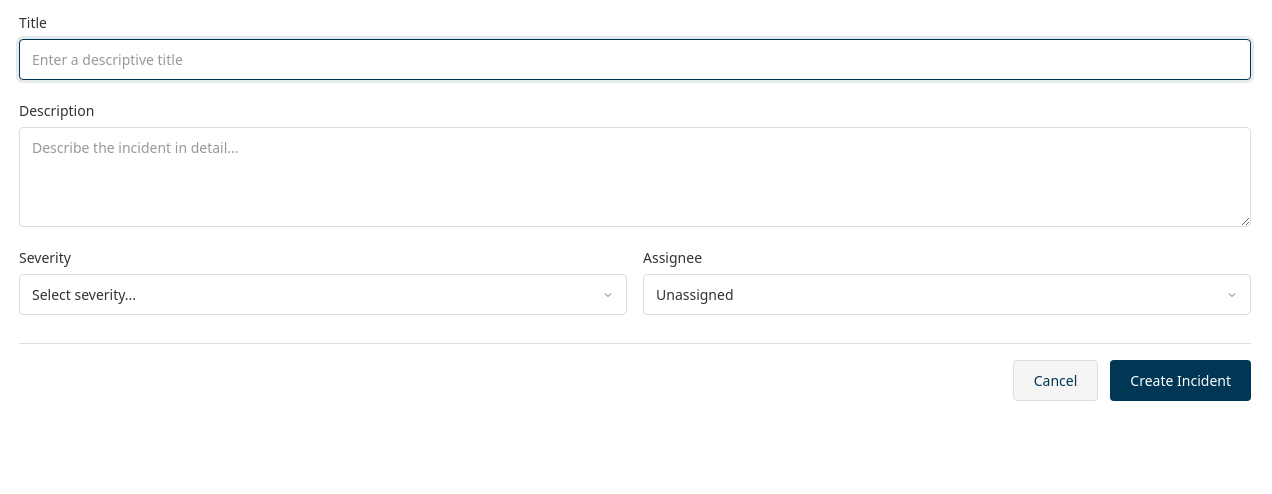
Test: IncidentForm › Validation › shows error when title is empty
Step 1. Click the button "Create Incident" → [1181, 380], box [1110,360,1251,401]
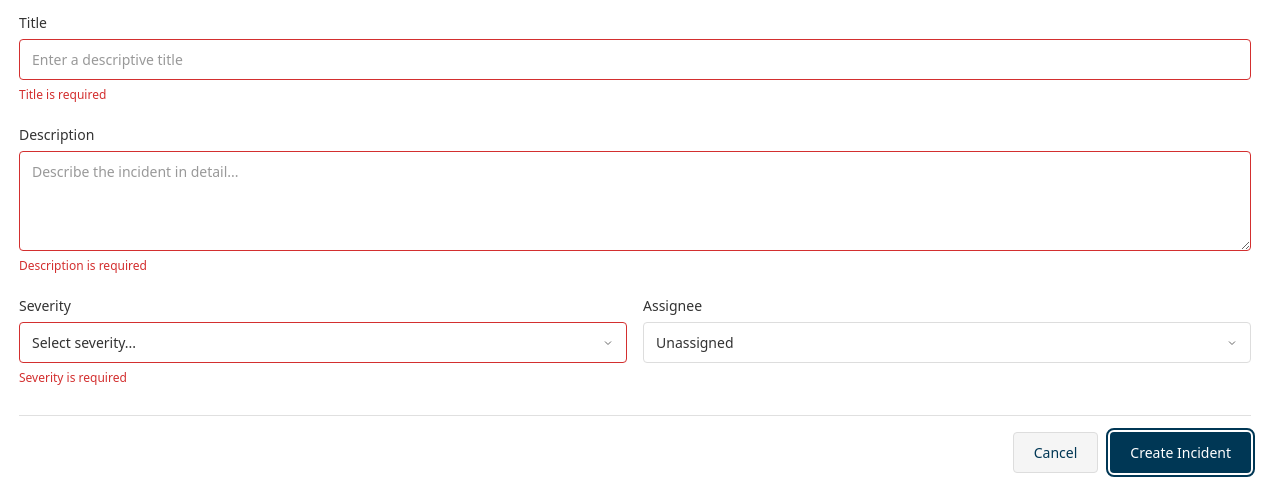
Result: the text "Title is required" is shown at [19,86,106,103]
